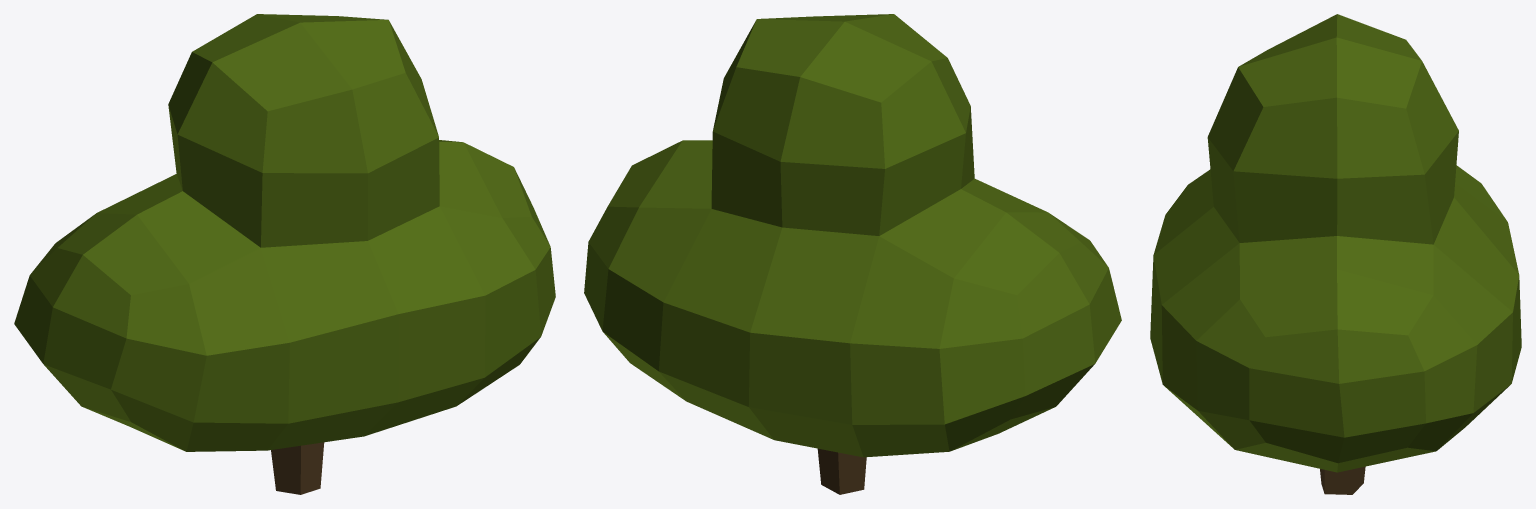
Rendered from TreesAndBushes_054.fbx.
3 views of the same model, side by side, from view 1: azimuth 30°, elevation 25°; view 2: azimuth 150°, elevation 25°; view 3: azimuth 270°, elevation 25° (orthographic). The views are drawn at different scales.
Visible parts, largest first — view 1: TreesAndBushes_054; view 2: TreesAndBushes_054; view 3: TreesAndBushes_054.
Boxes of the visible parts, <box> form: TreesAndBushes_054: <box>14,14,555,494</box>; TreesAndBushes_054: <box>584,14,1121,494</box>; TreesAndBushes_054: <box>1150,14,1521,494</box>.
Bounding box in the file's own units: 70.99 × 64.41 × 48.19.
